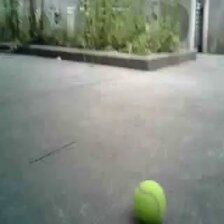tennis: (134, 179, 166, 220)
